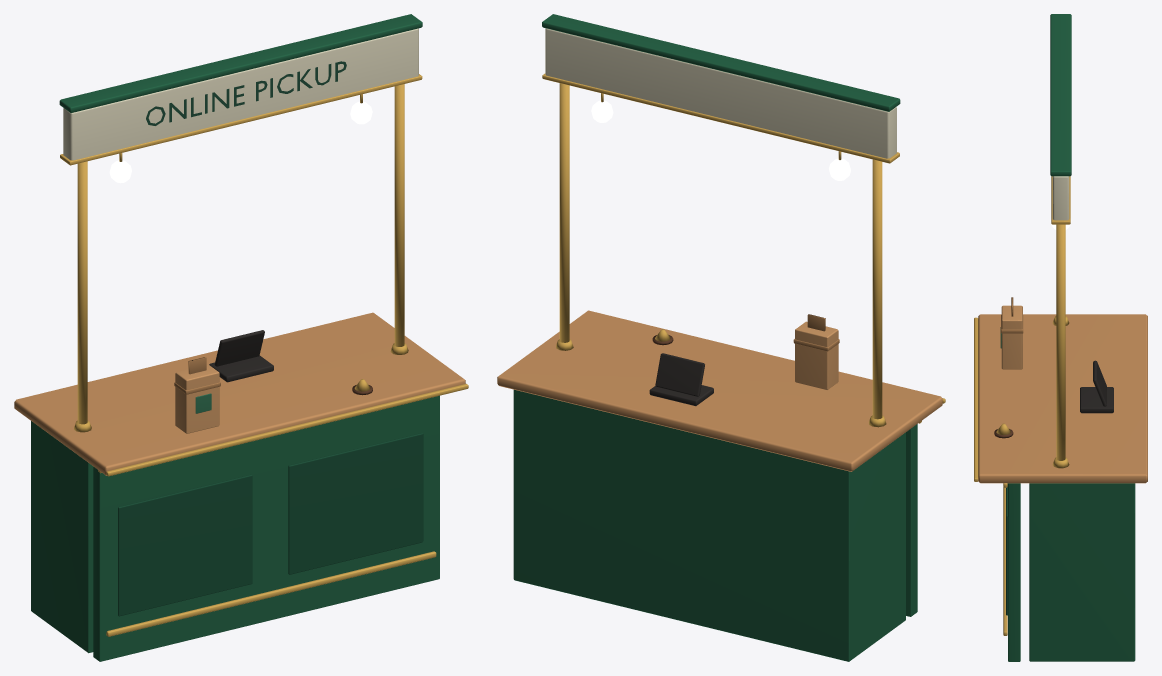
Rendered from pickup_window.glb.
The picture shows the model from 3 angles, left to right: view 1: azimuth 30°, elevation 25°; view 2: azimuth 150°, elevation 25°; view 3: azimuth 270°, elevation 25°; orthographic projection. The views are drawn at different scales.
Parts seen in each view (by area): view 1: BaseFront, Top, SignBar, Panel1, Panel-1, Base, SignCap, Post-1, Post1, KickRail, LedgeBag, TopEdge (+4 smaller); view 2: Base, Top, SignBar, SignCap, Post1, Post-1, LedgeBag, BaseFront, SignTrim, TillScreen, Till; view 3: Top, Base, SignCap, Post1, BaseFront, LedgeBag, TopEdge, SignBar, Till, KickRail, TillScreen, SignTrim.
Boxes of the visible parts, left/top/right/bottom form: BaseFront: left=93, top=395, right=439, bottom=661; Top: left=14, top=312, right=465, bottom=475; SignBar: left=63, top=28, right=418, bottom=160; Panel1: left=288, top=433, right=423, bottom=574; Panel-1: left=118, top=474, right=252, bottom=616; Base: left=31, top=421, right=93, bottom=653; SignCap: left=59, top=14, right=422, bottom=112; Post-1: left=77, top=161, right=87, bottom=424; Post1: left=394, top=84, right=404, bottom=346; KickRail: left=106, top=551, right=436, bottom=636; LedgeBag: left=175, top=364, right=219, bottom=433; TopEdge: left=106, top=383, right=468, bottom=476; Base: left=513, top=389, right=905, bottom=661; Top: left=497, top=310, right=942, bottom=471; SignBar: left=545, top=28, right=896, bottom=158; SignCap: left=542, top=14, right=900, bottom=111; Post1: left=559, top=83, right=569, bottom=342; Post-1: left=872, top=159, right=882, bottom=419; LedgeBag: left=795, top=321, right=838, bottom=390; BaseFront: left=906, top=424, right=917, bottom=616; SignTrim: left=542, top=73, right=899, bottom=163; TillScreen: left=655, top=353, right=704, bottom=396; Till: left=649, top=385, right=713, bottom=406; Top: left=978, top=314, right=1147, bottom=483; Base: left=1029, top=483, right=1135, bottom=661; SignCap: left=1050, top=14, right=1071, bottom=176; Post1: left=1056, top=224, right=1065, bottom=460; BaseFront: left=1008, top=483, right=1020, bottom=661; LedgeBag: left=1001, top=305, right=1022, bottom=369; TopEdge: left=974, top=317, right=978, bottom=481; SignBar: left=1052, top=176, right=1069, bottom=220; Till: left=1080, top=387, right=1113, bottom=413; KickRail: left=1003, top=487, right=1007, bottom=635; TillScreen: left=1093, top=360, right=1106, bottom=406; SignTrim: left=1051, top=176, right=1070, bottom=224.
Bounding box in the file's own units: 1.8 × 2.57 × 0.82.
